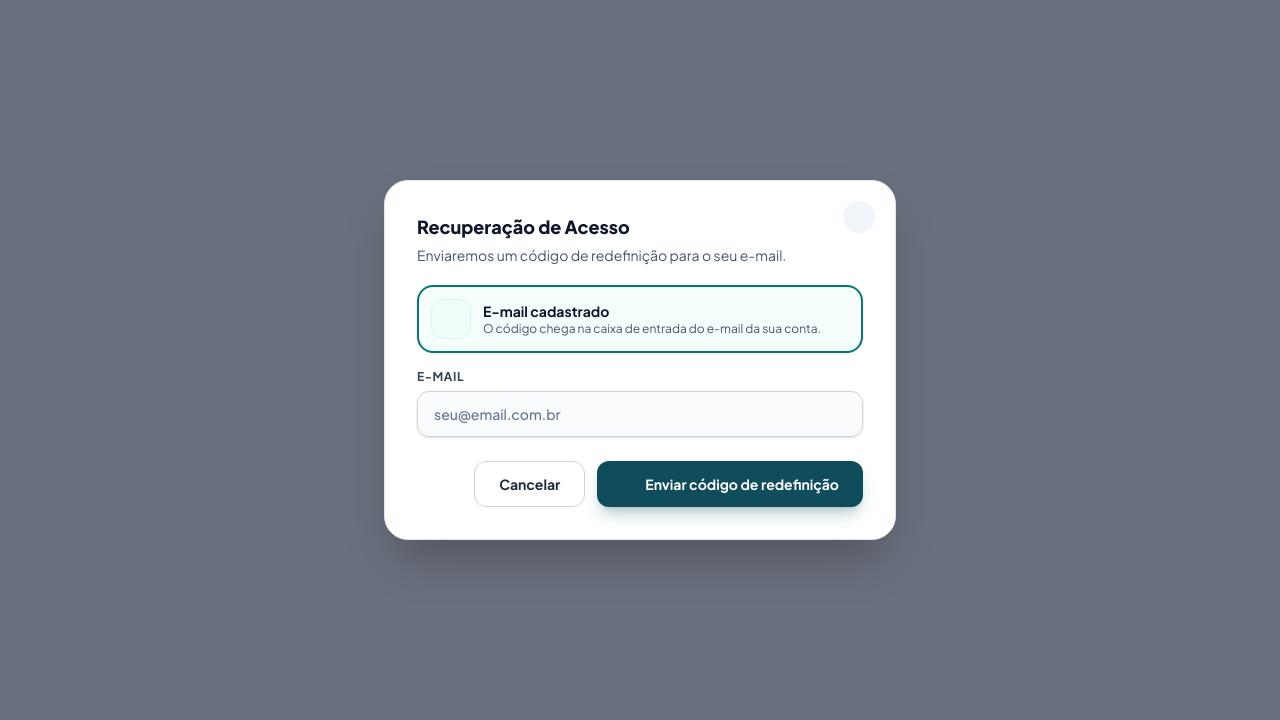
RecuperarSenhaModal › envia o e-mail aparado e mostra a mensagem neutra
Type "  lucas@clinica.com " into the field labelled "E-mail".
click(640, 414); type("  lucas@clinica.com ")  # box x1=417 y1=391 x2=863 y2=437
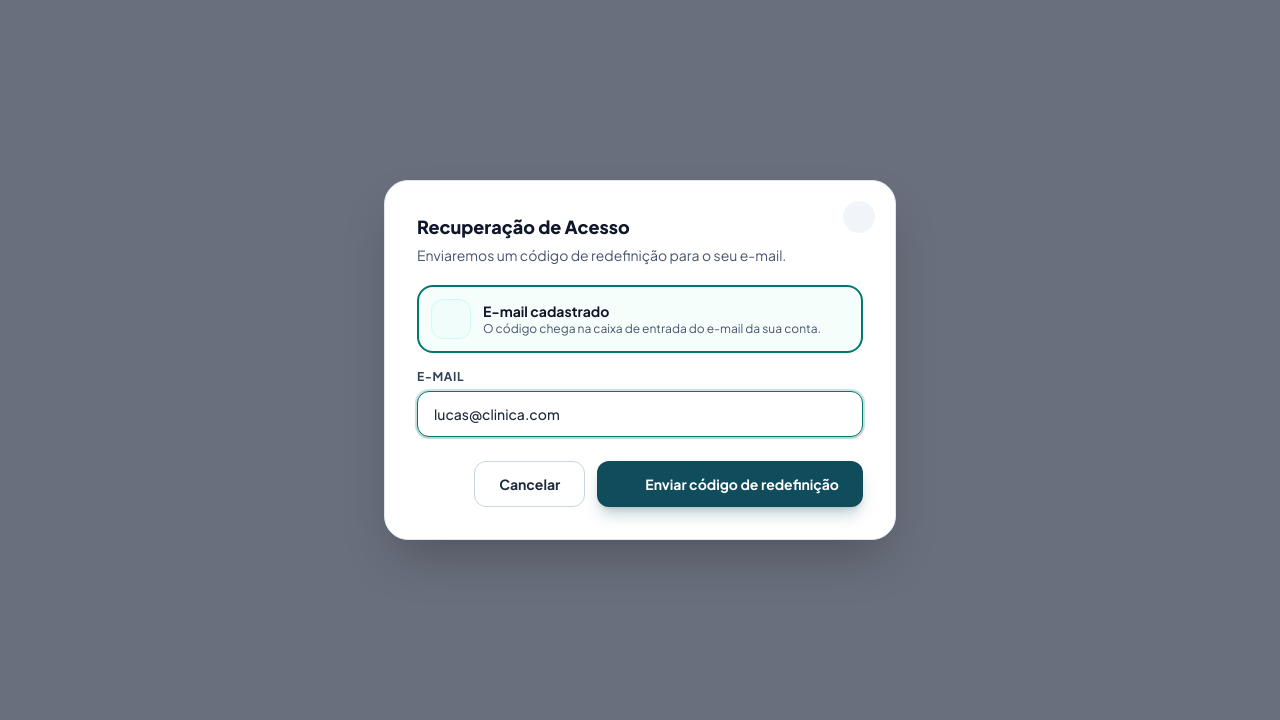
Click the button "Enviar código de redefinição".
click(730, 484)  # box x1=597 y1=461 x2=863 y2=507
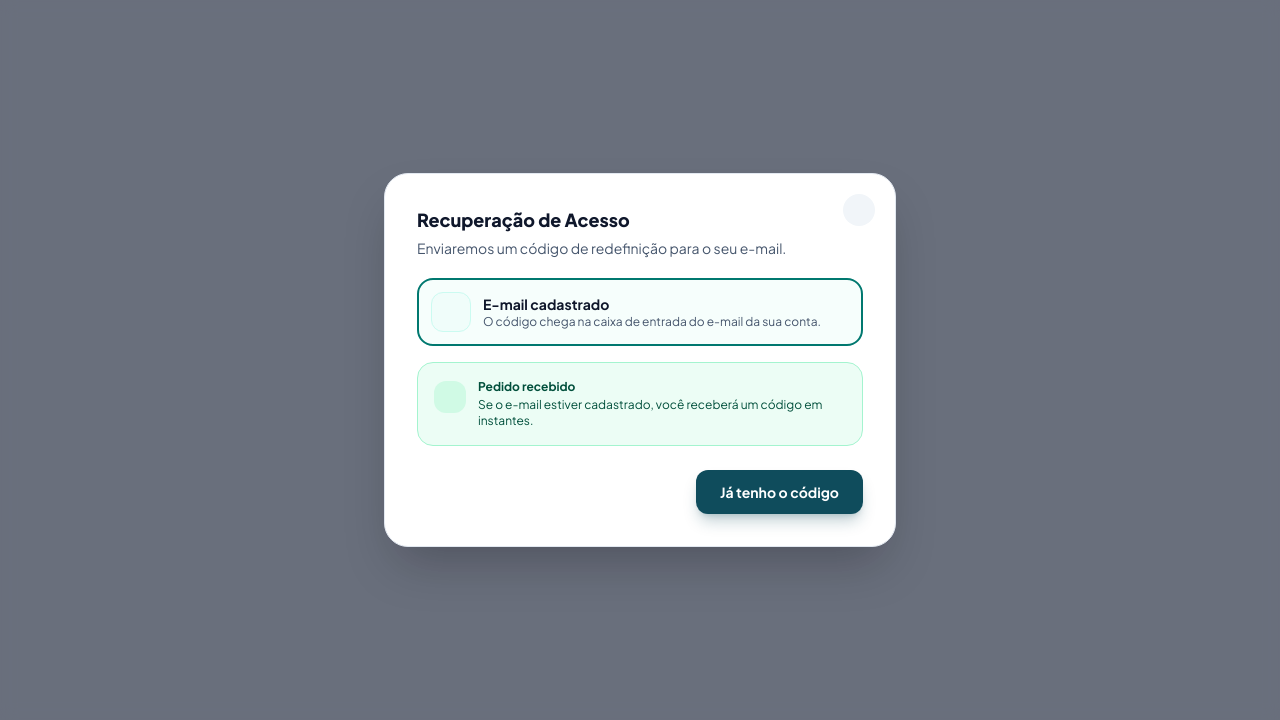
Result: the text "Se o e-mail estiver cadastrado, você receberá um código em instantes." is shown at x1=478 y1=397 x2=846 y2=429
